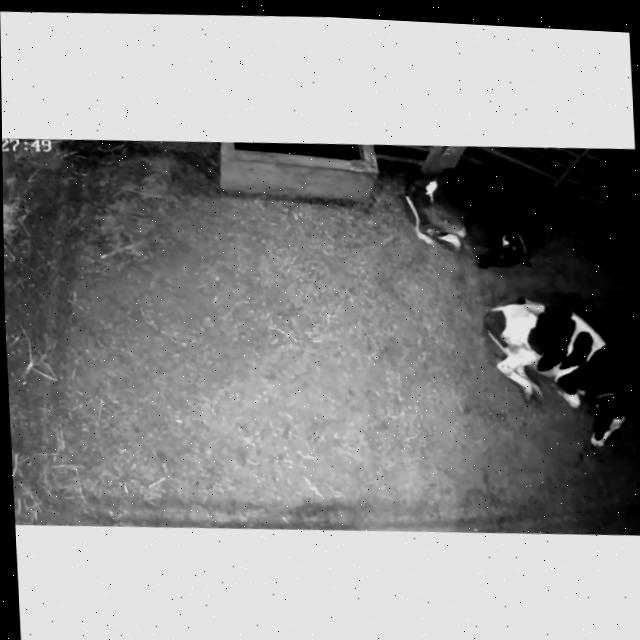lay: (468, 274, 640, 471), (391, 156, 573, 287)
